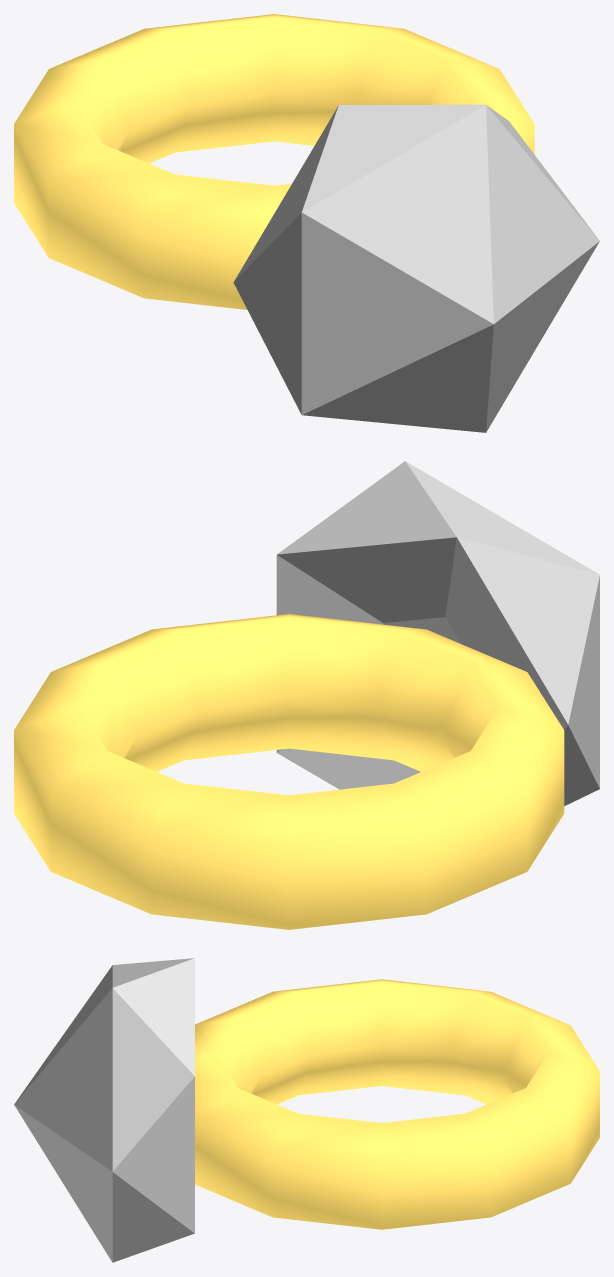
File: ring.glb
The picture shows the model from 3 angles, top to bottom: view 1: azimuth 30°, elevation 25°; view 2: azimuth 150°, elevation 25°; view 3: azimuth 270°, elevation 25°; orthographic projection. The views are drawn at different scales.
Parts seen in each view (by area): view 1: Ring; view 2: Ring; view 3: Ring.
Boxes of the visible parts, bbox=[...] form: Ring: bbox=[14, 14, 599, 432]; Ring: bbox=[14, 461, 599, 929]; Ring: bbox=[14, 958, 599, 1262].
Bounding box in the file's own units: 0.46 × 0.3199 × 0.6181.
